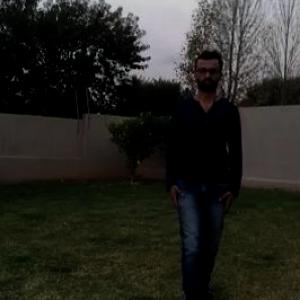follow: (168, 55, 234, 299)
